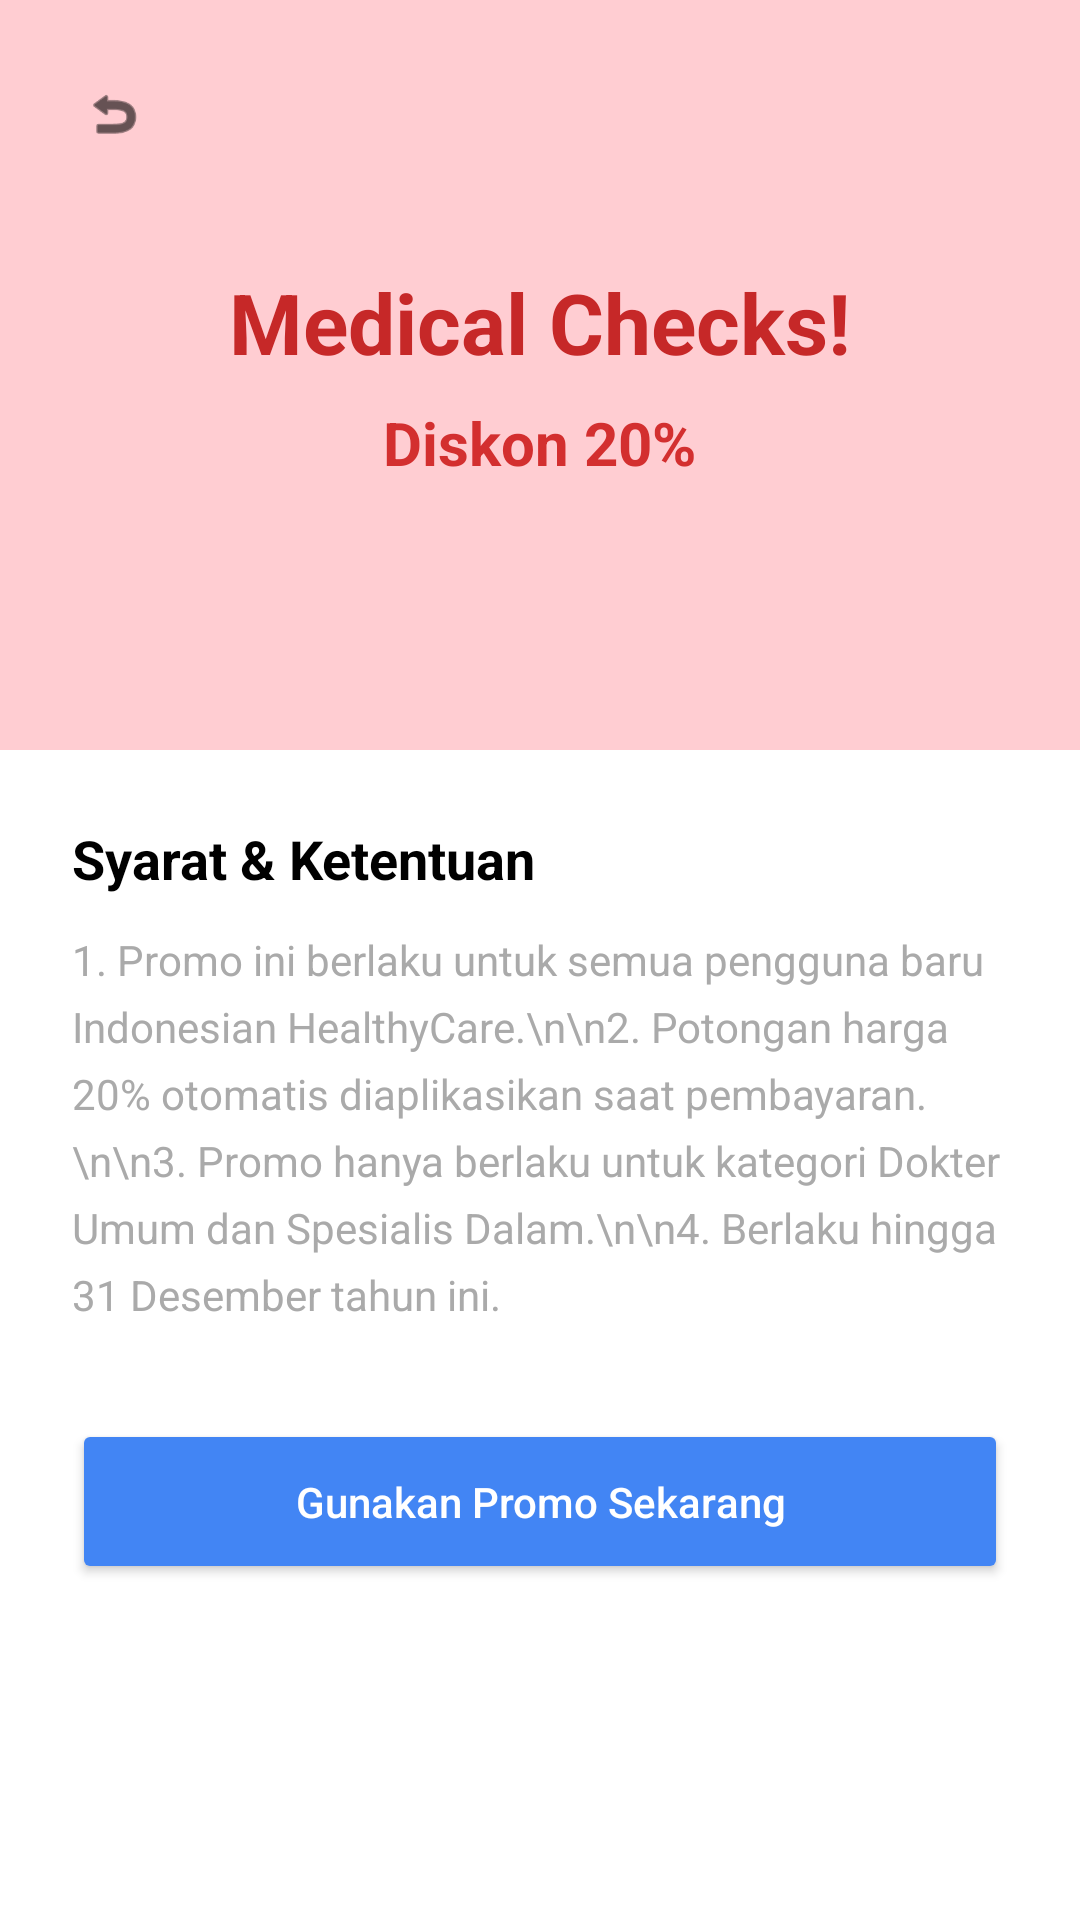

Screen size 1080px×1920px. Icon name, then its center in pixels as [x,y]:
revert: [115,114]
